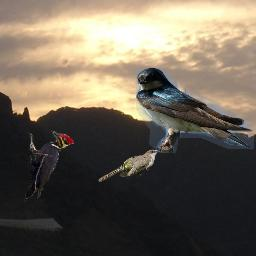Cuckoo: (98, 149, 160, 182)
Swallow: (136, 68, 254, 153)
Woodpecker: (24, 130, 74, 203)
